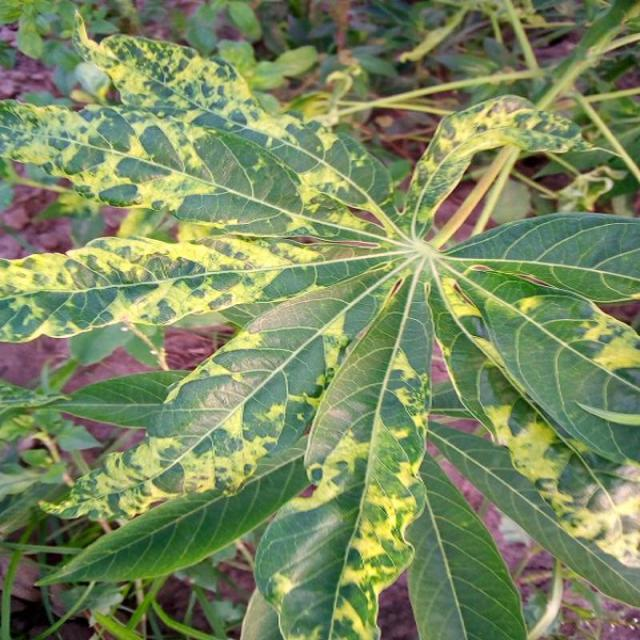cassava leaf: (1, 14, 638, 637)
